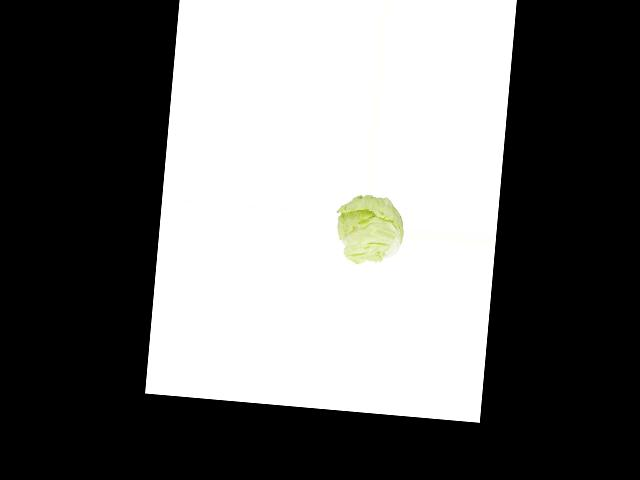lettuce: (333, 192, 408, 265)
